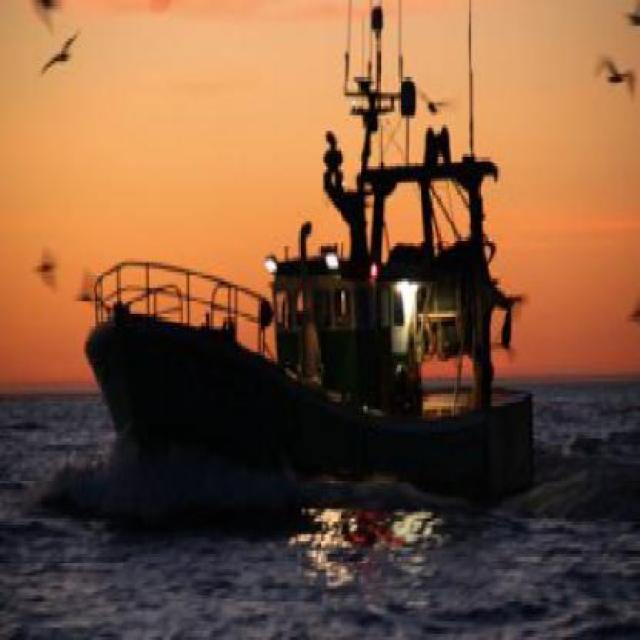fish-b: (80, 4, 563, 526)
